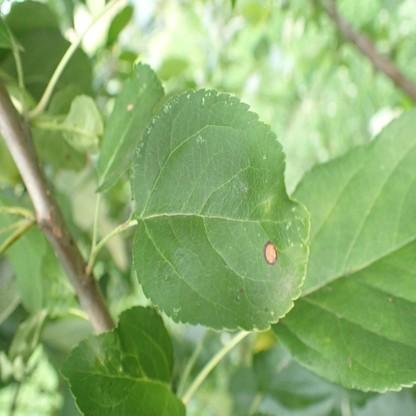frogeye: (265, 242, 277, 267), (127, 103, 134, 110)
